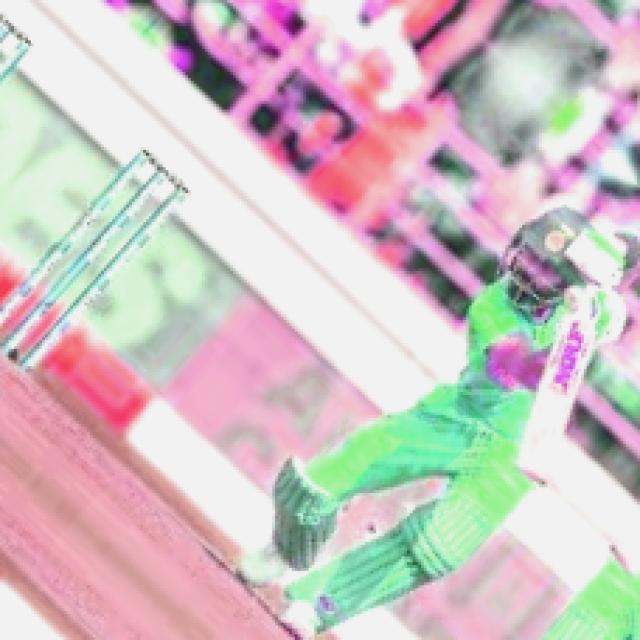bat: (506, 315, 594, 488)
toe: (512, 463, 554, 486)
